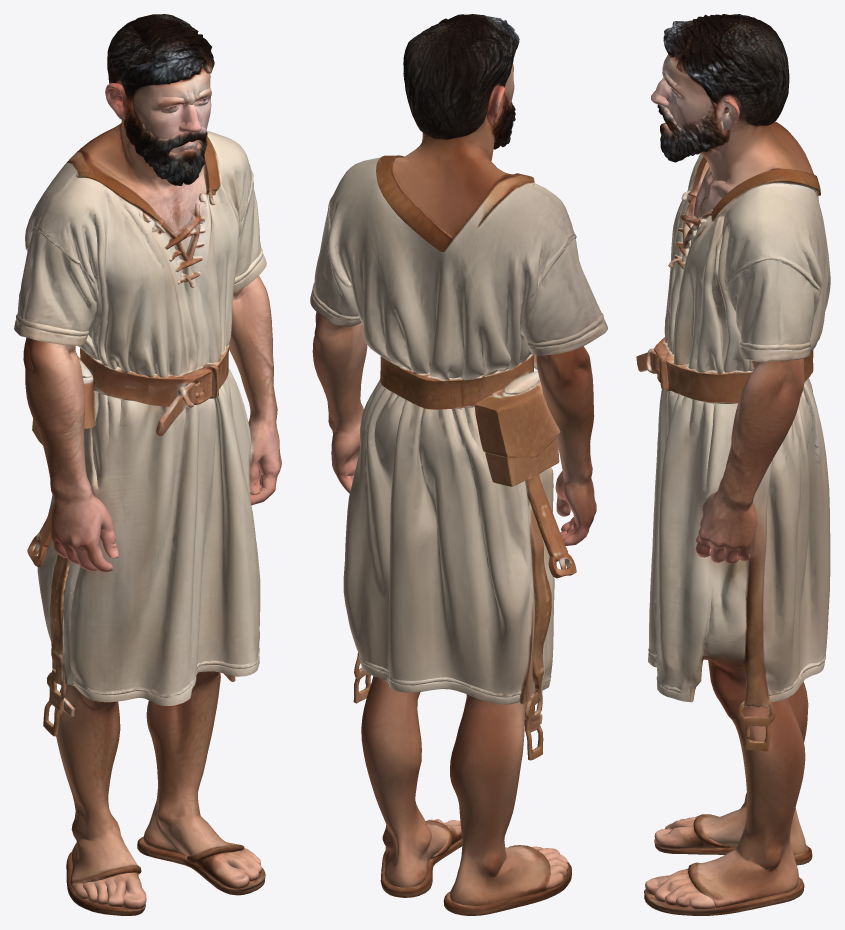
File: hunter_rodin_raw_arms_at_sides.glb
The picture shows the model from 3 angles, left to right: view 1: azimuth 30°, elevation 25°; view 2: azimuth 150°, elevation 25°; view 3: azimuth 270°, elevation 25°; orthographic projection.
Parts seen in each view (by area): view 1: model; view 2: model; view 3: model.
Boxes of the visible parts, x1=… form: model: x1=14, y1=14, x2=281, y2=915; model: x1=310, y1=14, x2=607, y2=915; model: x1=636, y1=14, x2=830, y2=915.
Bounding box in the file's own units: 0.6193 × 1.9 × 0.3874.
Materials: 1 (1 with a texture image).
